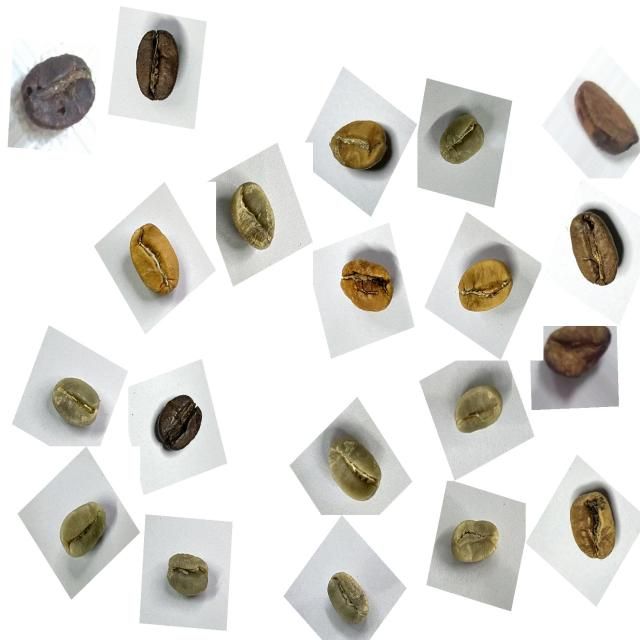bad: (15, 44, 102, 141), (561, 72, 637, 170), (537, 310, 617, 396)
dark: (146, 383, 211, 465)
green: (317, 424, 392, 518), (220, 166, 292, 263), (323, 243, 403, 330), (449, 244, 523, 331), (439, 505, 512, 584), (47, 491, 118, 572), (40, 363, 108, 442), (316, 560, 384, 639), (427, 101, 493, 181), (448, 371, 513, 446), (156, 539, 217, 610)
light: (113, 212, 192, 310), (555, 476, 628, 576), (321, 102, 399, 187)
medium: (556, 204, 634, 300), (125, 25, 198, 114)
